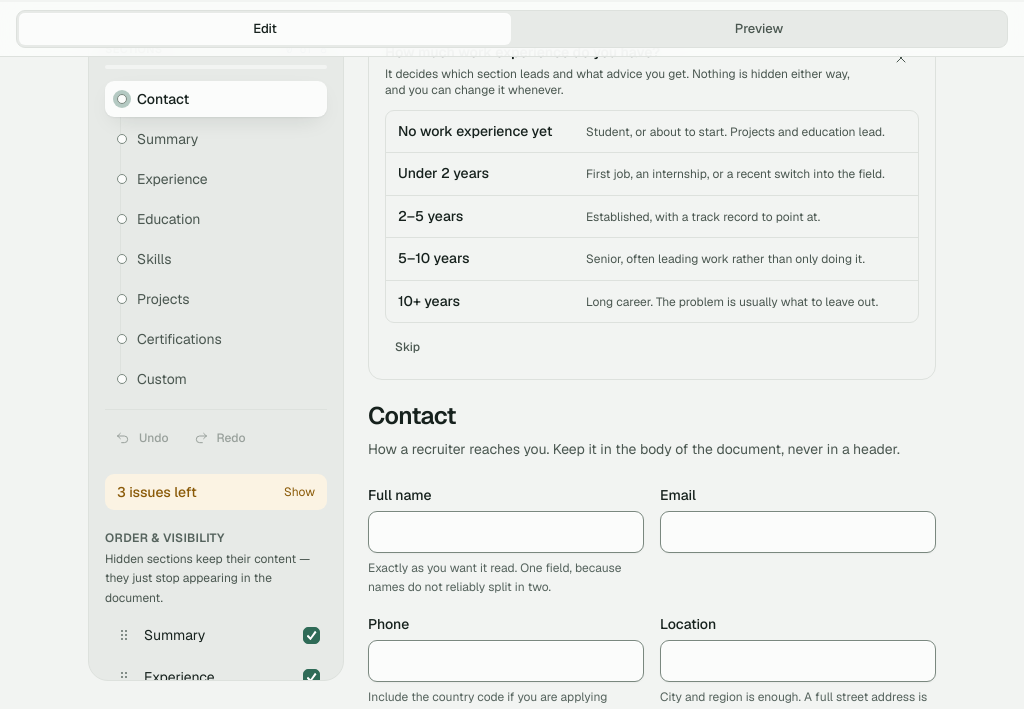
Scenario: empty states › shows the projects empty state with what counts as a project
expect the heading "Contact" is shown: met, box x1=368 y1=400 x2=456 y2=431
Click the button "Projects": (216, 299) x1=105 y1=281 x2=327 y2=317
(page scrolled)
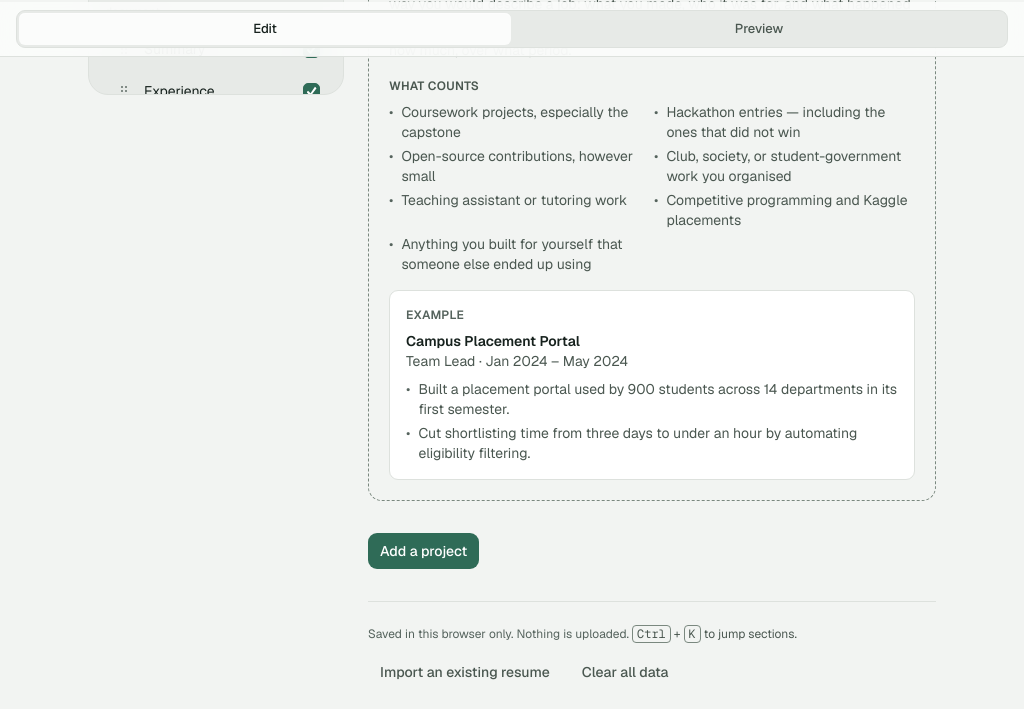
expect the list item "• Hackathon entries — including the ones that did not win" is shown: met, box x1=654 y1=102 x2=915 y2=142
expect the text "Campus Placement Portal" is shown: met, box x1=406 y1=332 x2=580 y2=350
